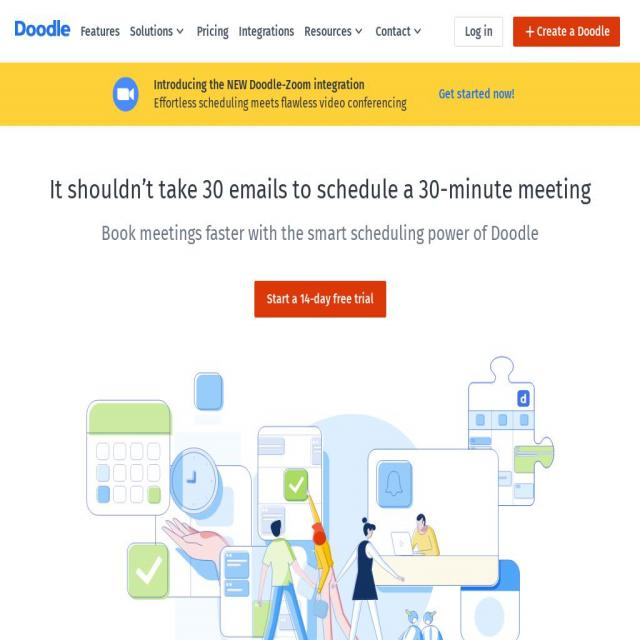login-option: (450, 8, 506, 48)
navigation-links: (71, 8, 429, 50)
